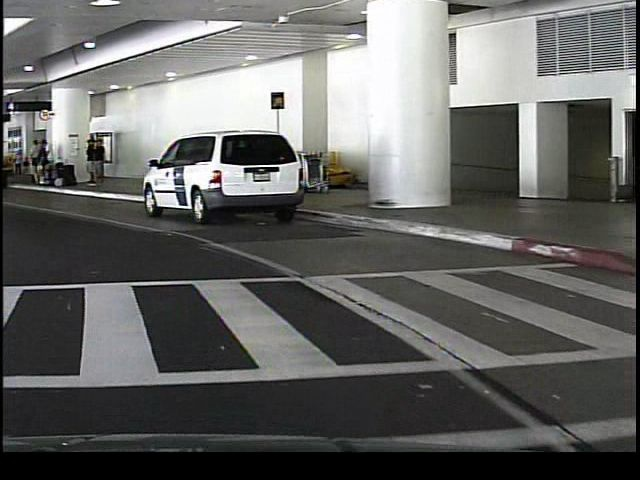person: (22, 134, 37, 186), (92, 138, 106, 187)
